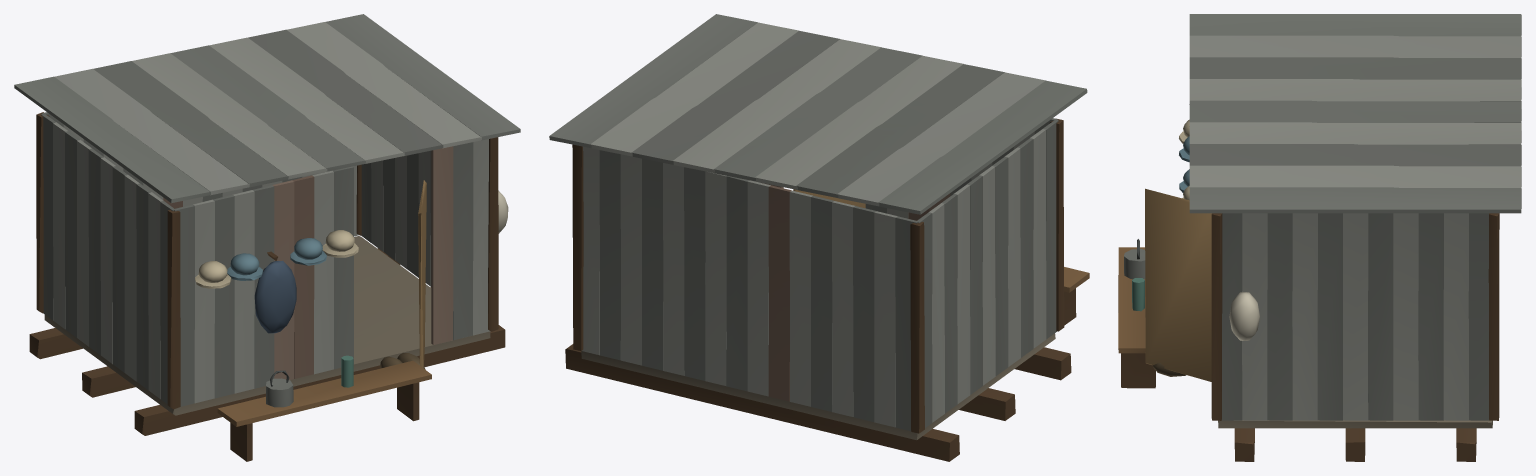
File: change_house_a_lod2.glb
3 renders of one model, left to right at view 1: azimuth 30°, elevation 25°; view 2: azimuth 150°, elevation 25°; view 3: azimuth 270°, elevation 25°, orthographic. The views are drawn at different scales.
Parts seen in each view (by area): view 1: Surface.001; view 2: Surface.001; view 3: Surface.001.
Boxes of the visible parts, box(x1,y1,x2,y2) form: Surface.001: box(14, 14, 520, 461); Surface.001: box(549, 14, 1089, 461); Surface.001: box(1118, 14, 1521, 461).
Bounding box in the file's own units: 4.87 × 3.17 × 4.36.
